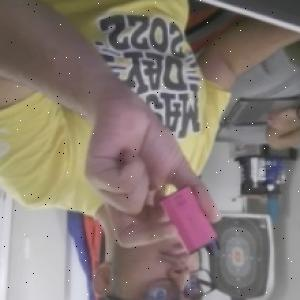Blume-E-Ciggirate: (158, 185, 222, 259)
